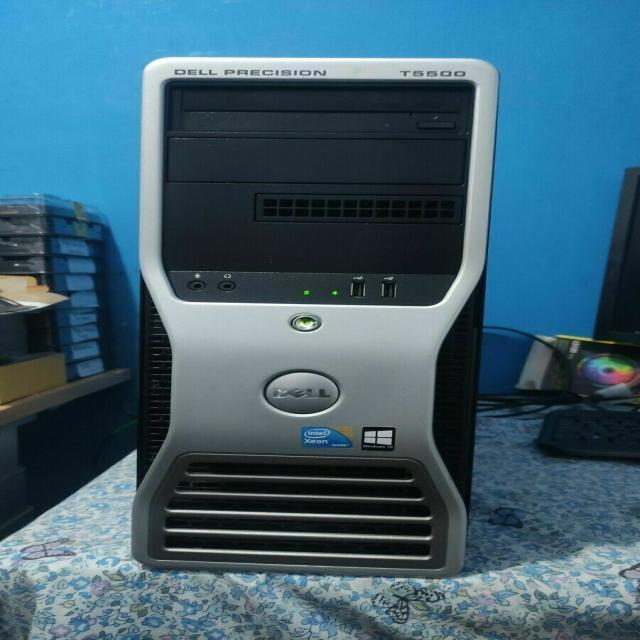Desktop-PC: (136, 21, 482, 586)
